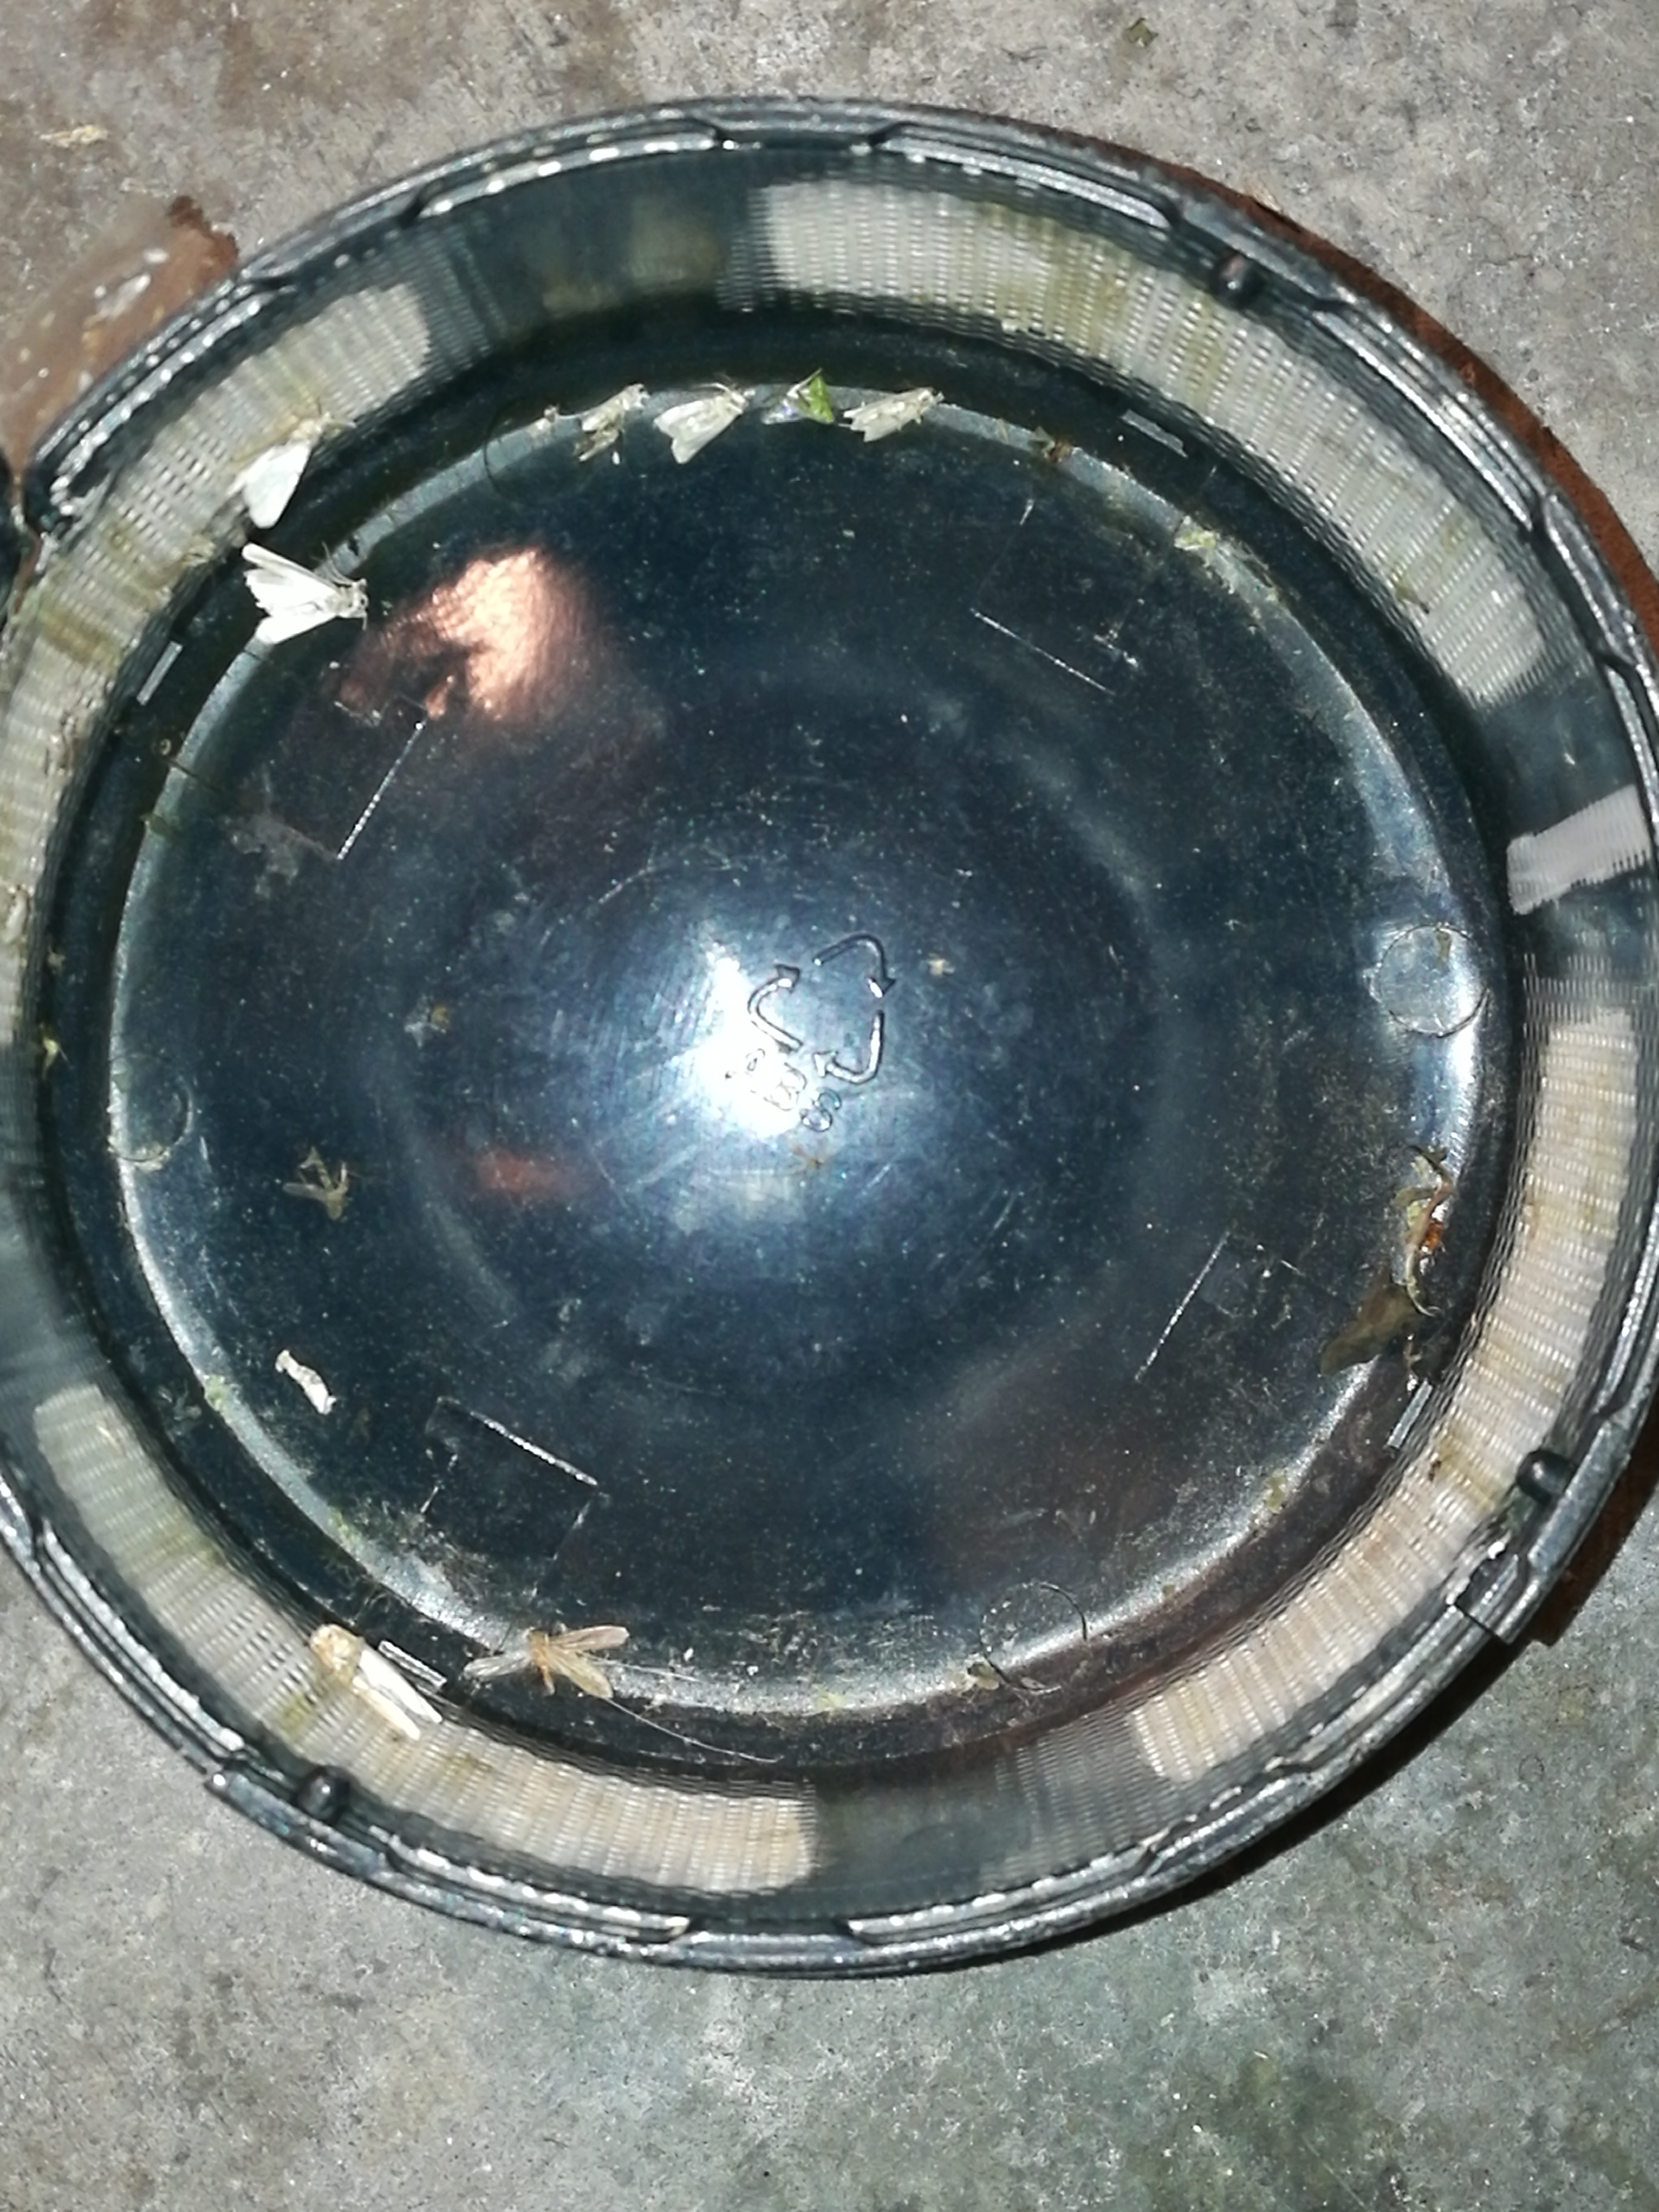mosquito: (843, 388, 946, 442), (580, 383, 648, 432)
moth: (242, 545, 366, 644), (465, 1629, 627, 1696), (237, 413, 331, 529), (652, 392, 753, 462)
